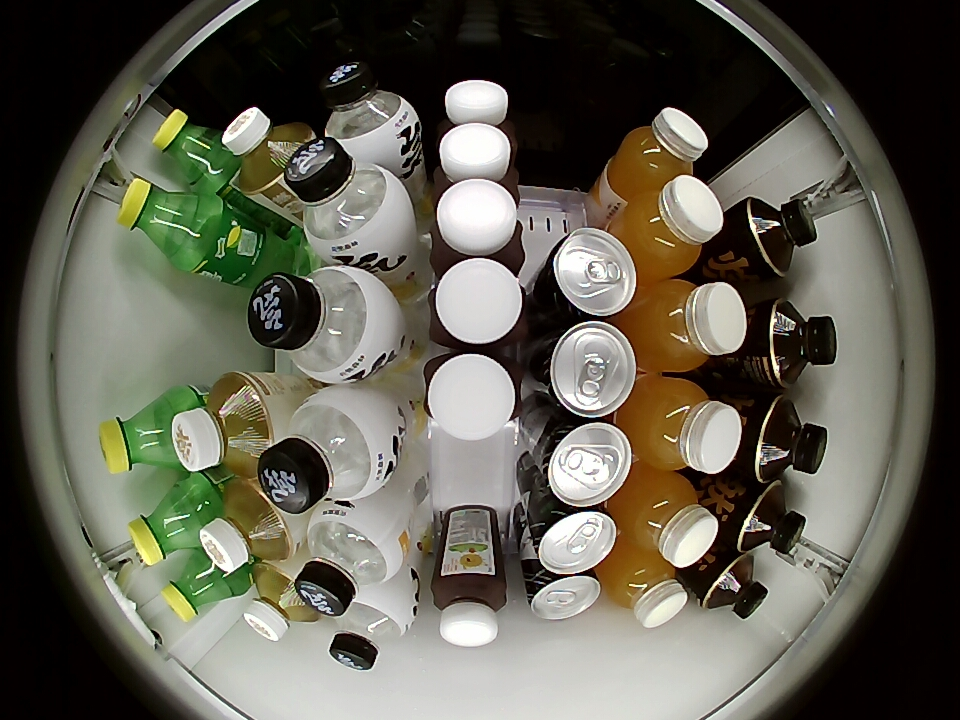qingdaowangzi-1: (533, 321, 637, 418), (537, 228, 638, 321), (535, 417, 633, 507), (527, 503, 619, 575), (524, 565, 603, 620)
rancha-1: (760, 299, 838, 388), (752, 396, 828, 481), (745, 196, 818, 276), (737, 483, 807, 556), (701, 554, 769, 620)
rancha-2: (172, 373, 276, 476), (200, 478, 295, 574), (222, 106, 314, 199), (243, 563, 321, 642)
weic: (625, 375, 743, 475), (612, 176, 723, 279), (630, 279, 748, 372), (615, 471, 719, 567), (608, 108, 708, 202), (603, 547, 688, 628)
xuebi-b: (117, 176, 207, 265), (99, 394, 182, 474), (128, 483, 208, 566), (152, 108, 231, 188), (162, 553, 236, 621)
youyanggudong: (421, 349, 521, 442), (428, 257, 528, 350), (431, 177, 526, 271), (431, 568, 508, 648), (435, 122, 519, 191), (439, 79, 513, 136)
yuanqishui: (256, 387, 397, 514), (248, 266, 395, 383), (283, 138, 413, 265), (293, 502, 408, 616), (320, 61, 421, 159), (329, 586, 415, 671)
